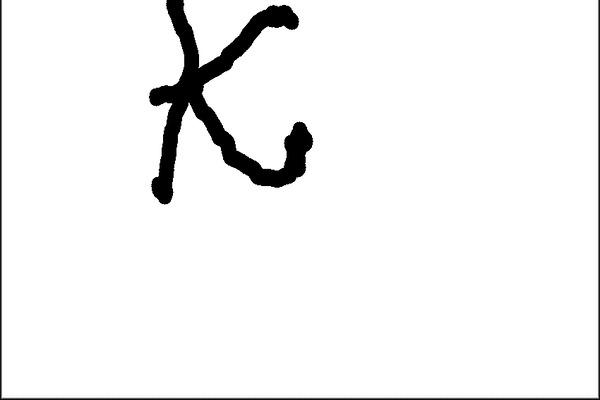K: (134, 1, 318, 211)
